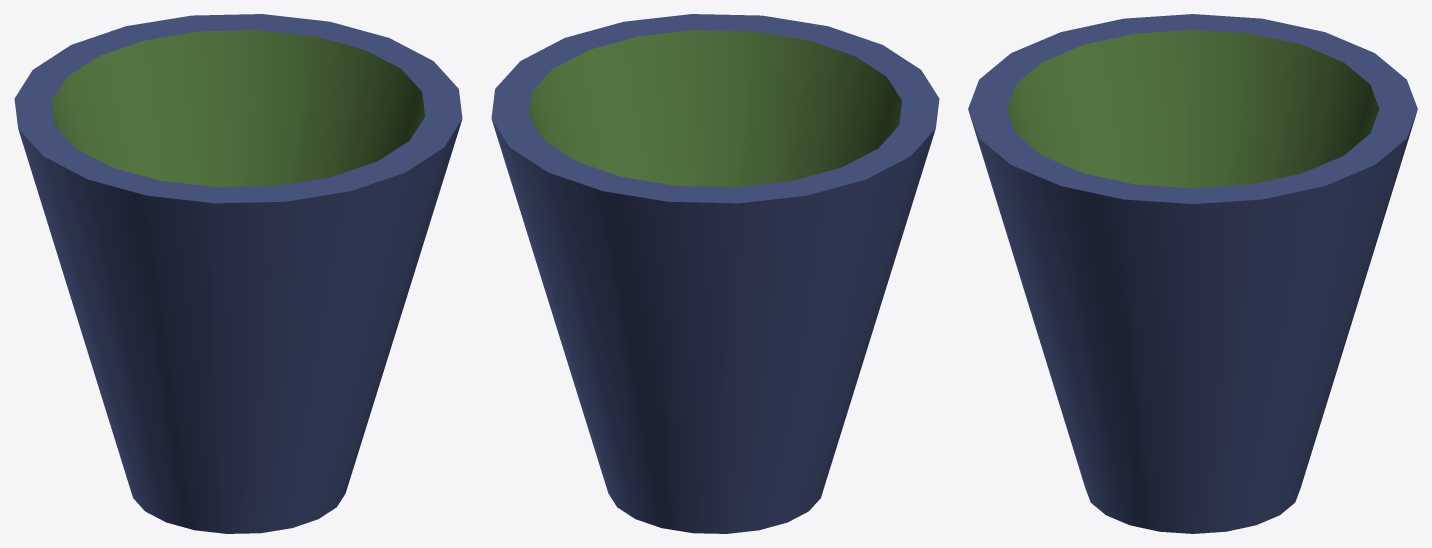
Rendered from trashcan.fbx.
3 renders of one model, left to right at view 1: azimuth 30°, elevation 25°; view 2: azimuth 150°, elevation 25°; view 3: azimuth 270°, elevation 25°, orthographic.
Visible parts, largest first — view 1: trashcan; view 2: trashcan; view 3: trashcan.
Boxes of the visible parts, x1,y1,x2,y2 form: trashcan: (14, 14, 462, 533); trashcan: (491, 14, 939, 533); trashcan: (968, 14, 1417, 533).
Bounding box in the file's own units: 0.6499 × 0.6049 × 0.6499.
